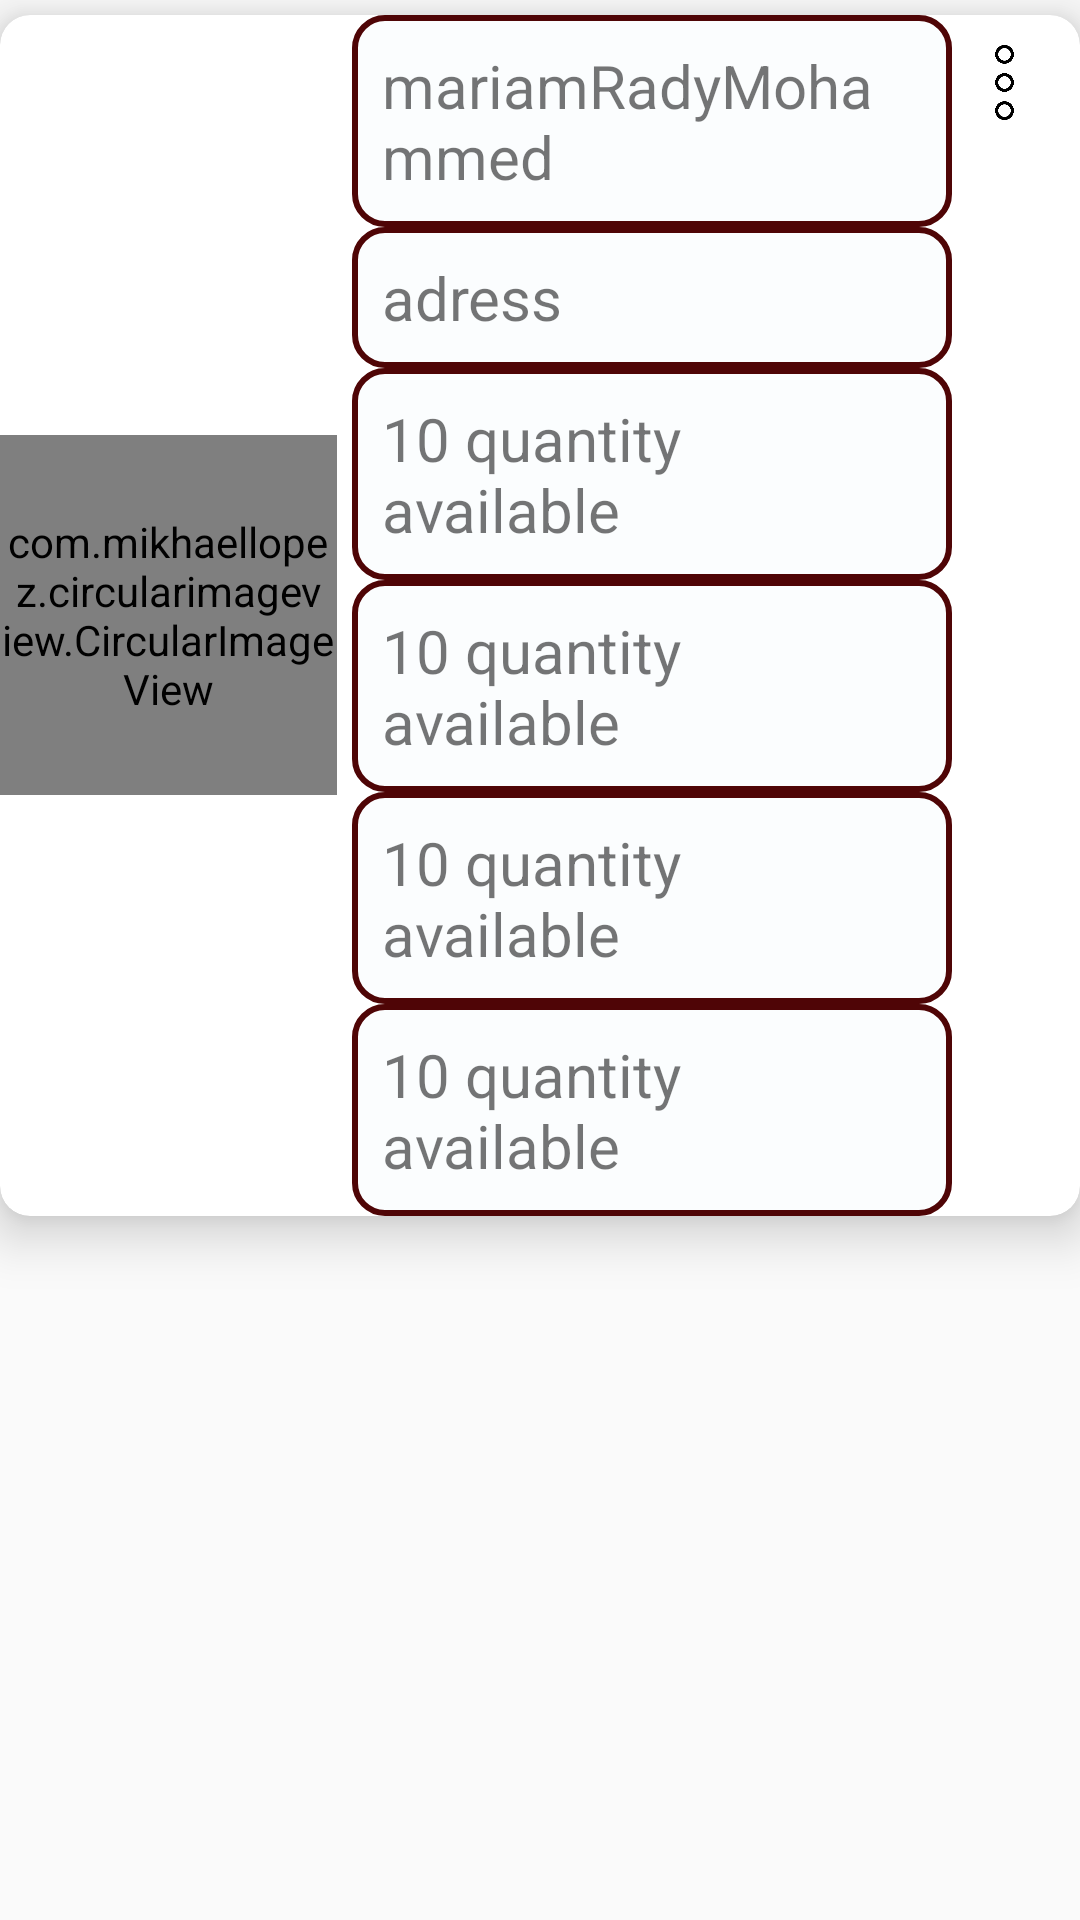

Locate icon controls on the screen. Image size 1080x1920, boxes as (x1, y1, x2, y2).
postsetting: (995, 45, 1014, 120)
